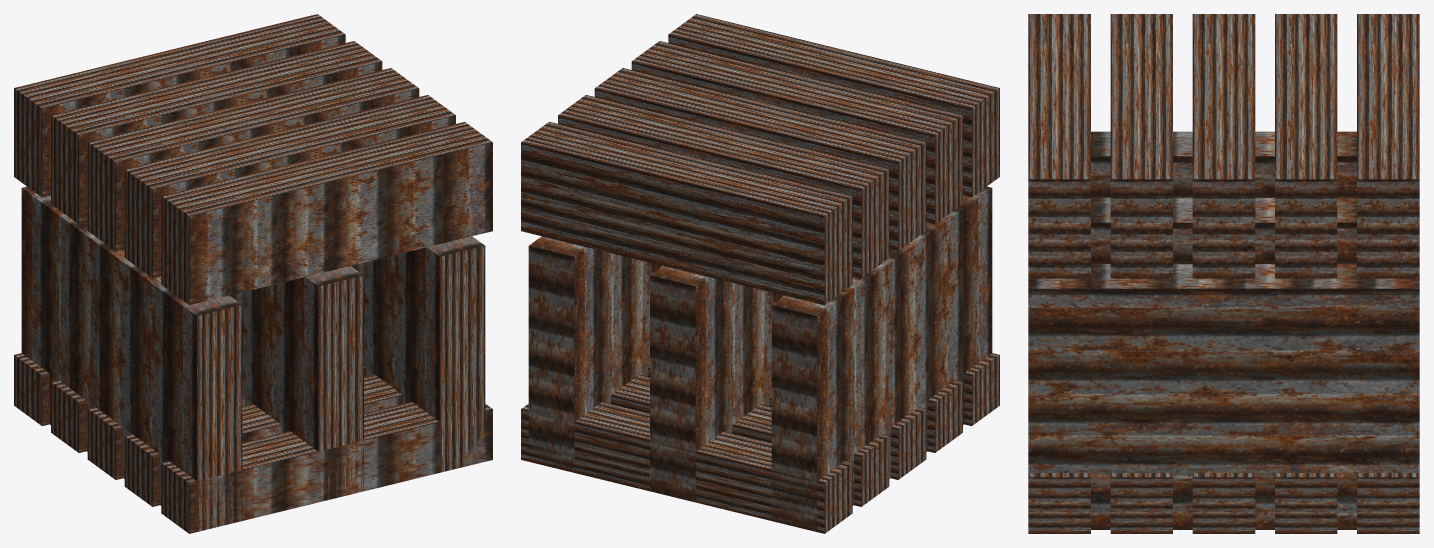
The model's file is pallet.obj.
3 renders of one model, left to right at view 1: azimuth 30°, elevation 25°; view 2: azimuth 150°, elevation 25°; view 3: azimuth 270°, elevation 25°, orthographic. The views are drawn at different scales.
Visible parts, largest first — view 1: pallet; view 2: pallet; view 3: pallet.
Part boxes in pixels (x1,y1,x2,y2): pallet: (14,14,492,533); pallet: (521,14,999,533); pallet: (1028,14,1419,533).
Size of the model in its own units: 1 by 1 by 1.
Materials: 1 (1 with a texture image).
